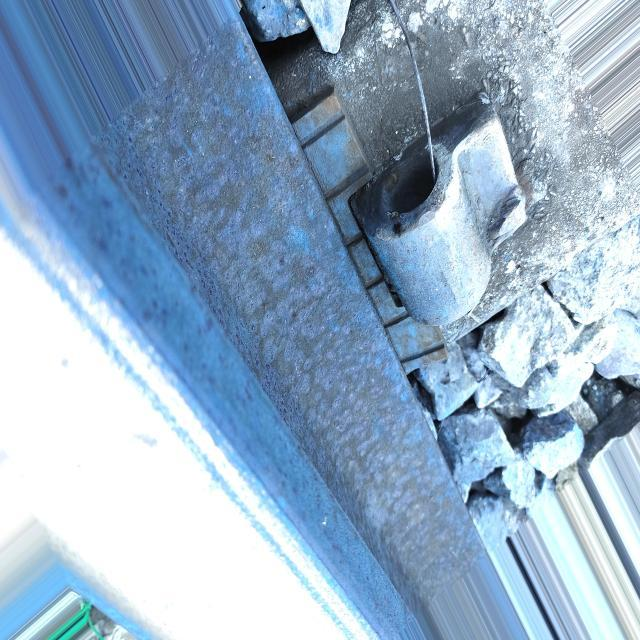Missing Fastener: (347, 77, 547, 377)
